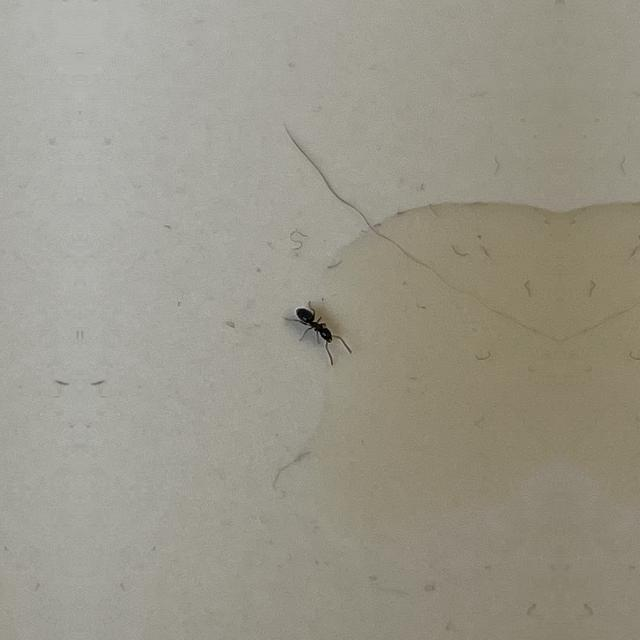Tapinoma: (290, 302, 342, 360)
